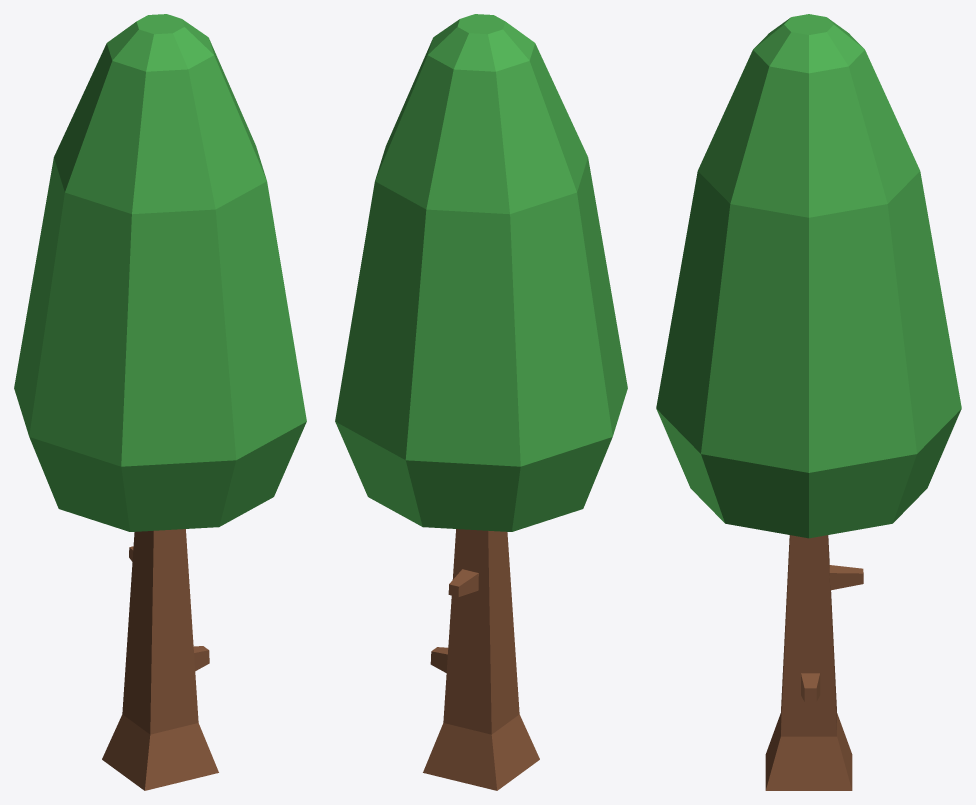
Rendered from tree_7.fbx.
The picture shows the model from 3 angles, left to right: view 1: azimuth 30°, elevation 25°; view 2: azimuth 150°, elevation 25°; view 3: azimuth 270°, elevation 25°; orthographic projection.
Parts seen in each view (by area): view 1: tree_7; view 2: tree_7; view 3: tree_7.
Boxes of the visible parts, x1,y1,x2,y2 form: tree_7: (14,14,306,790); tree_7: (335,14,627,790); tree_7: (656,14,961,790).
Size of the model in its own units: 0.5297 by 1.43 by 0.5297.
Materials: 1 (1 with a texture image).
